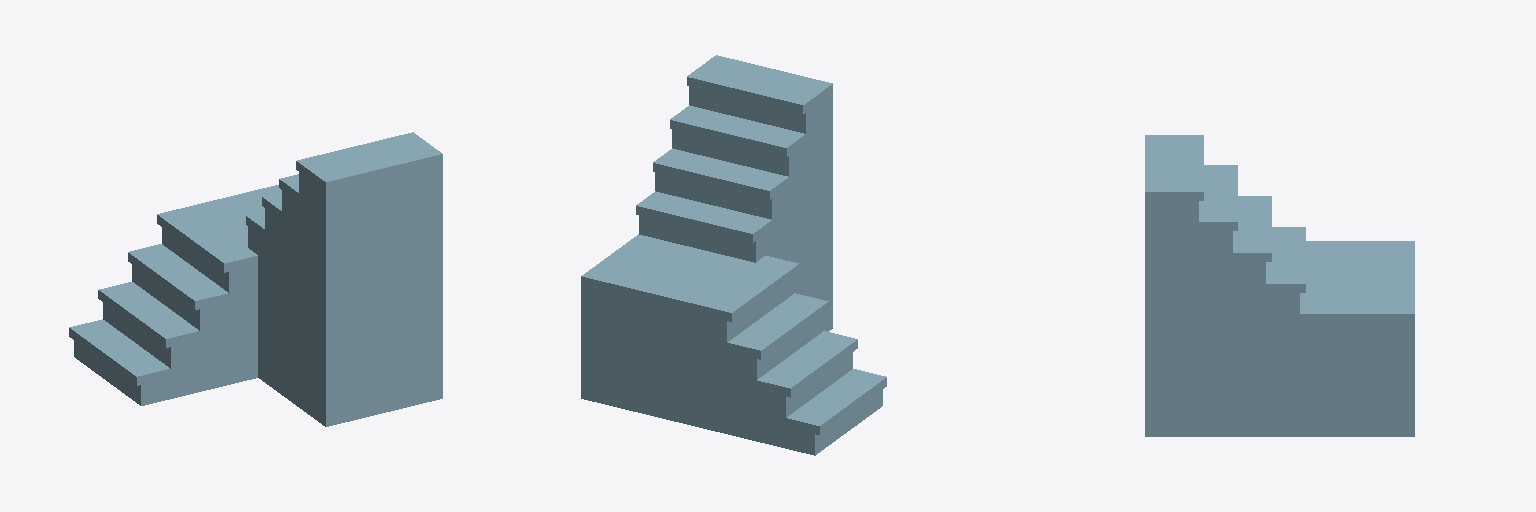
Rendered from stairsStoneCorner.obj.
3 views of the same model, side by side, from view 1: azimuth 30°, elevation 25°; view 2: azimuth 150°, elevation 25°; view 3: azimuth 270°, elevation 25° (orthographic).
Parts seen in each view (by area): view 1: stairsStoneCorner; view 2: stairsStoneCorner; view 3: stairsStoneCorner.
Boxes of the visible parts, x1=… form: stairsStoneCorner: x1=69, y1=132, x2=442, y2=426; stairsStoneCorner: x1=581, y1=55, x2=886, y2=455; stairsStoneCorner: x1=1145, y1=135, x2=1414, y2=436.
Size of the model in its own units: 1.02 by 1 by 1.